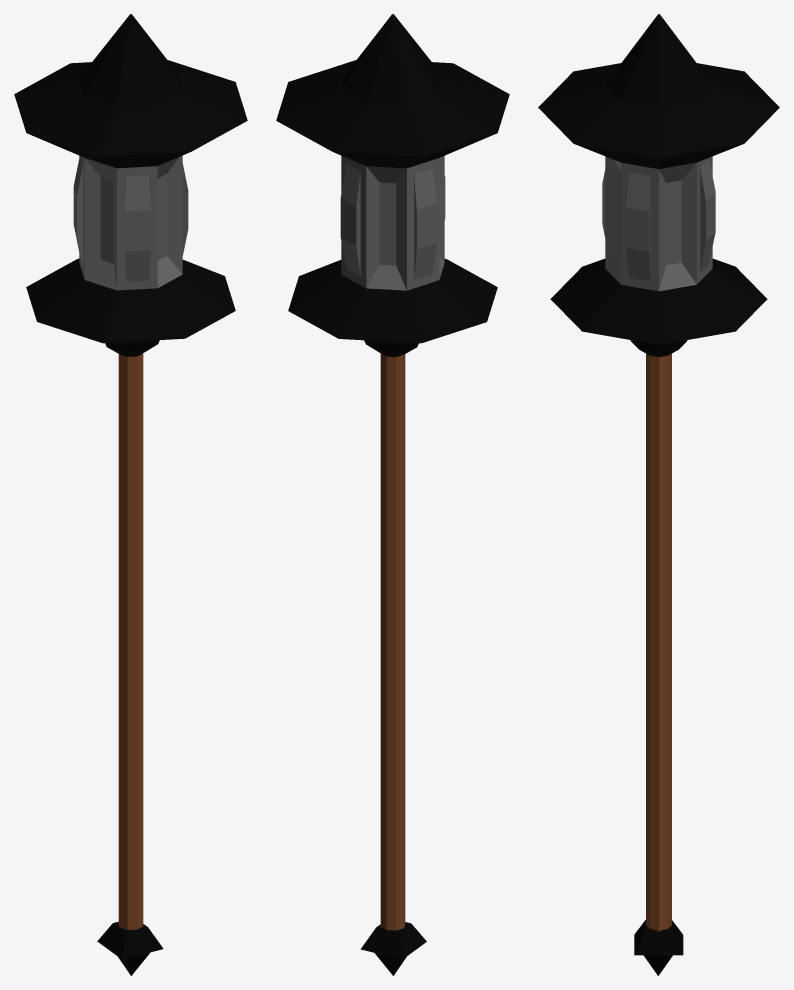
Rendered from maca_do_Mozgus.fbx.
3 views of the same model, side by side, from view 1: azimuth 30°, elevation 25°; view 2: azimuth 150°, elevation 25°; view 3: azimuth 270°, elevation 25° (orthographic).
Parts seen in each view (by area): view 1: maça; view 2: maça; view 3: maça.
Boxes of the visible parts, x1,y1,x2,y2 form: maça: [14, 14, 247, 975]; maça: [276, 14, 509, 975]; maça: [538, 14, 779, 975].
Size of the model in its own units: 30 by 132 by 30.
